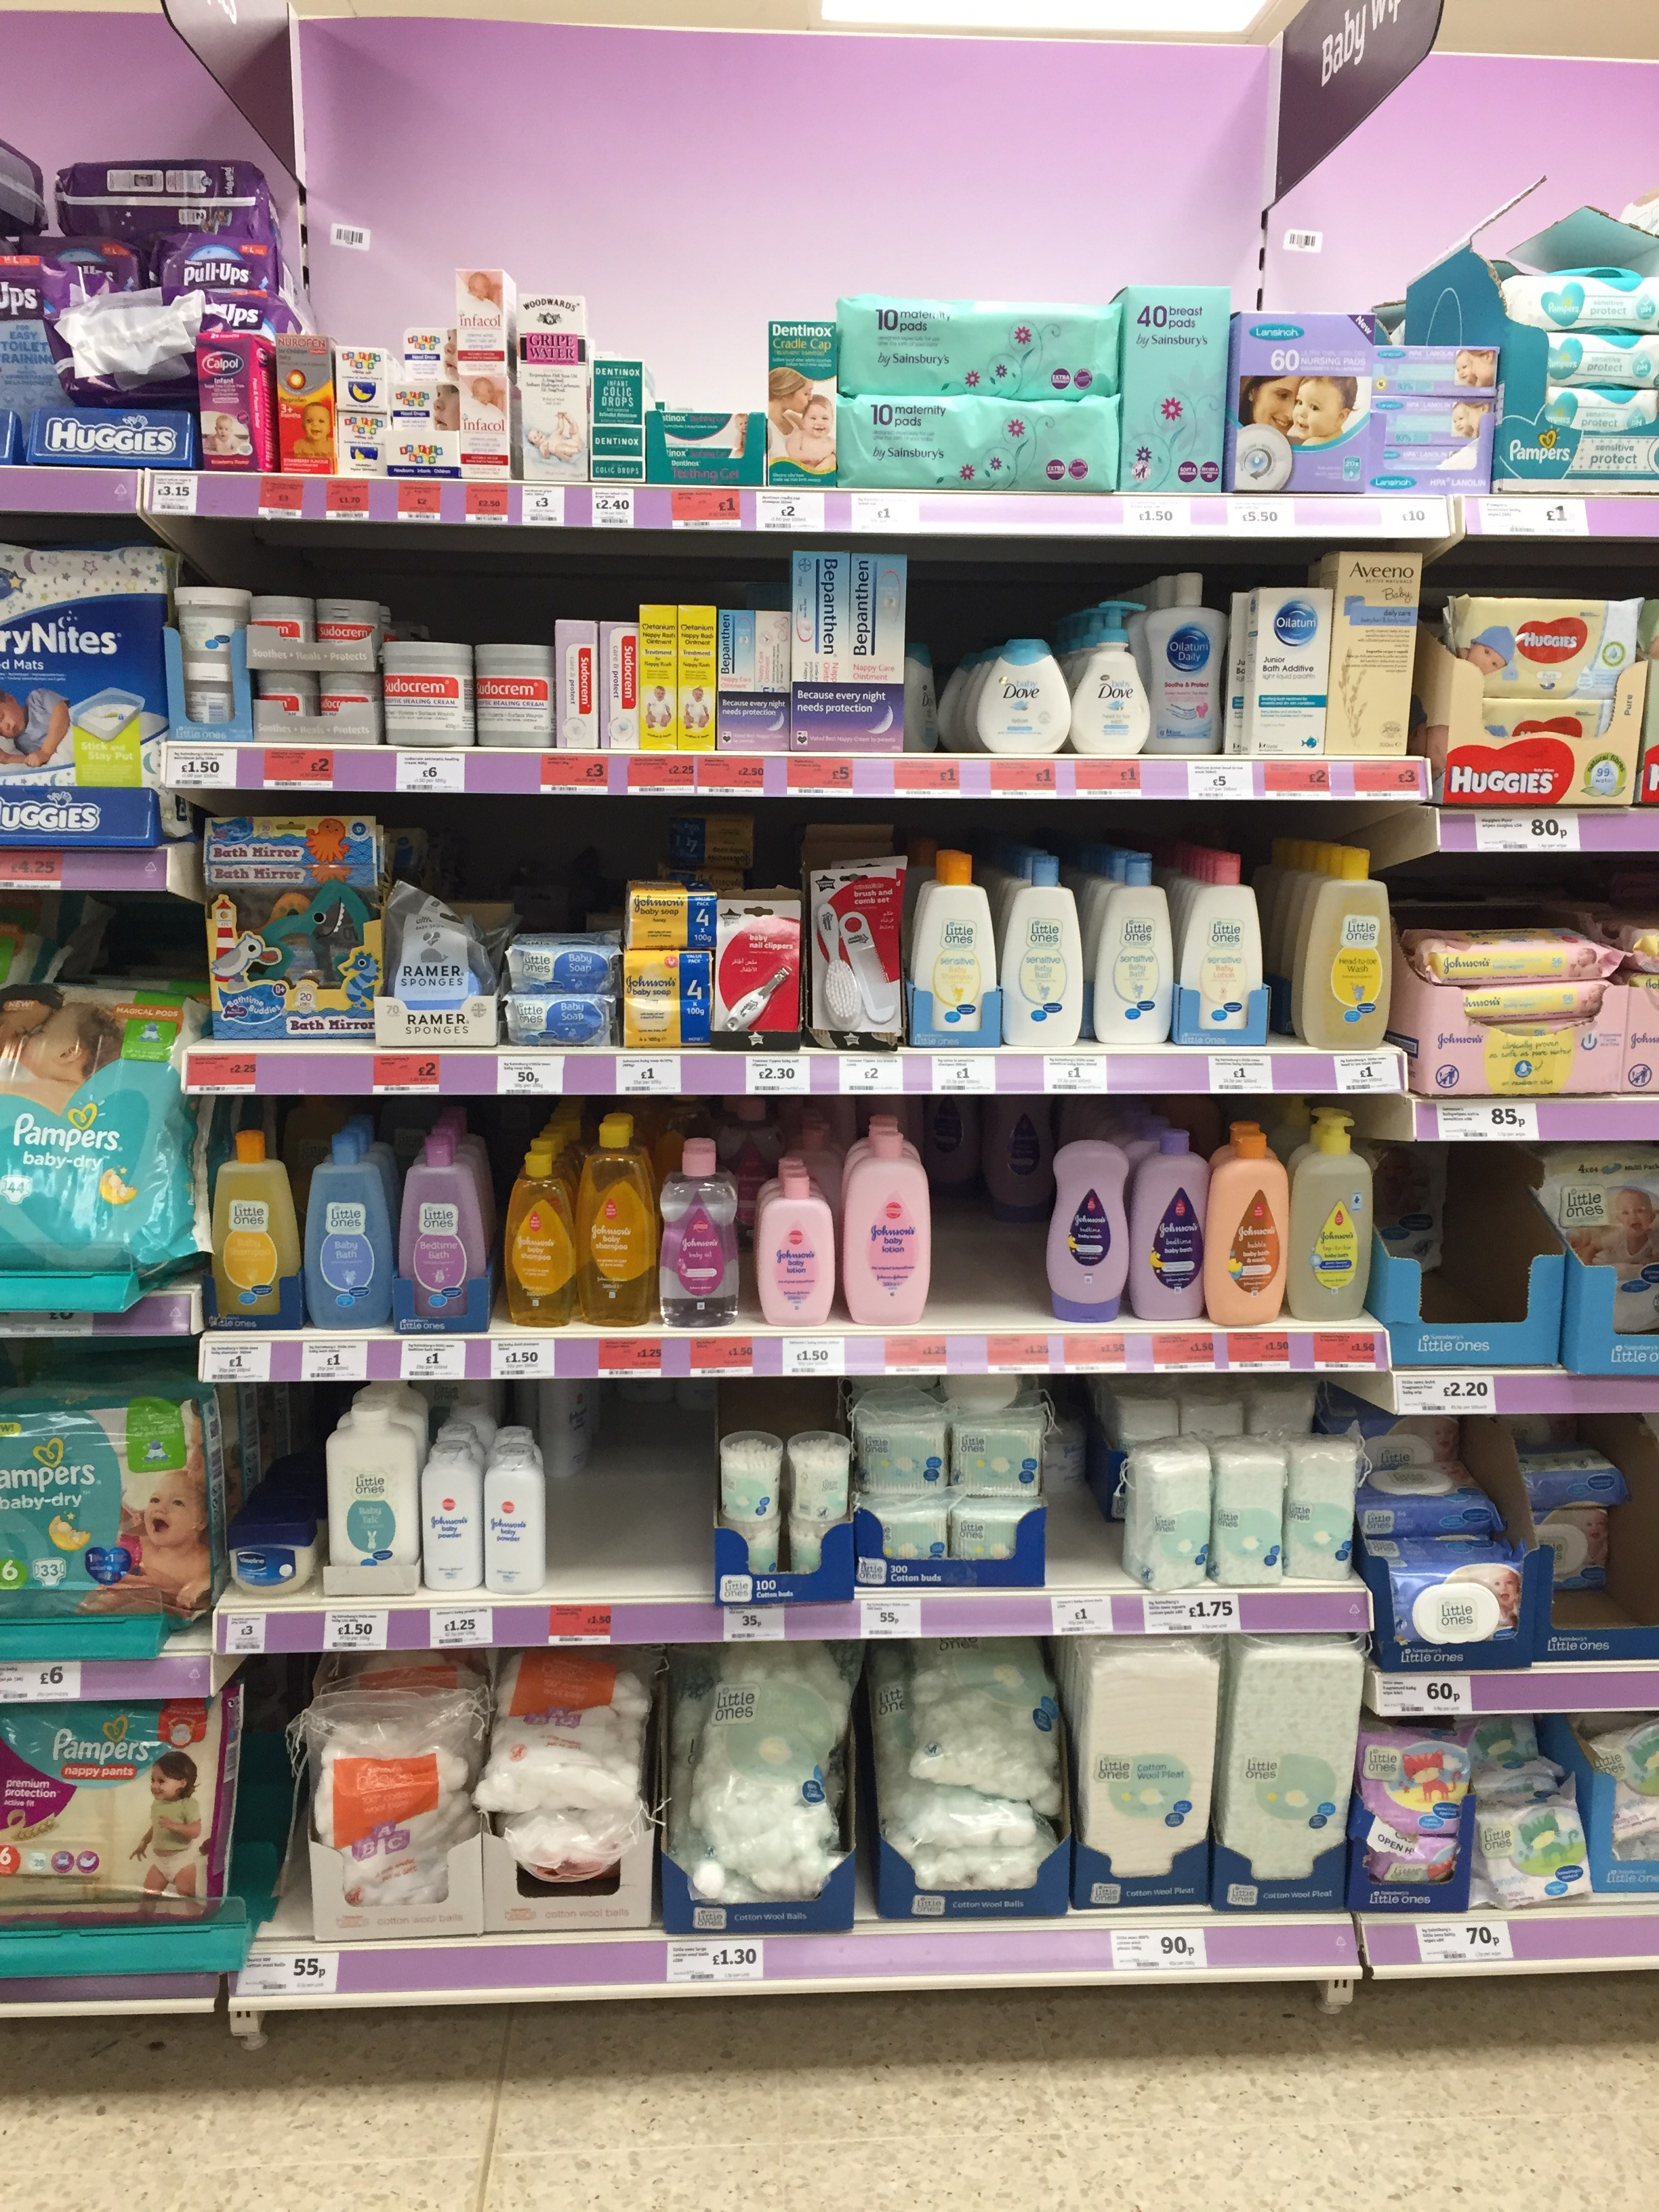Misplacement: (931, 1097, 1051, 1329)
